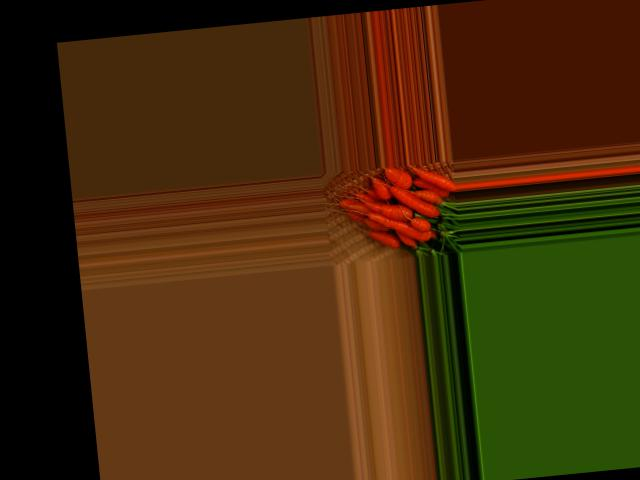carrot: (391, 229, 414, 252)
